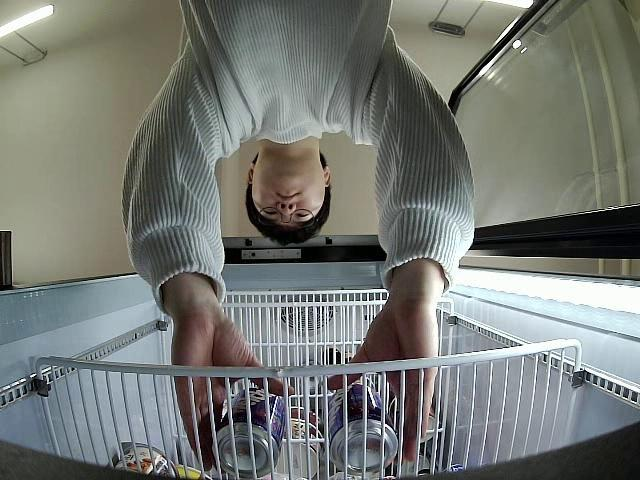14_welchsGrape: (322, 383, 399, 476), (212, 384, 286, 479)
